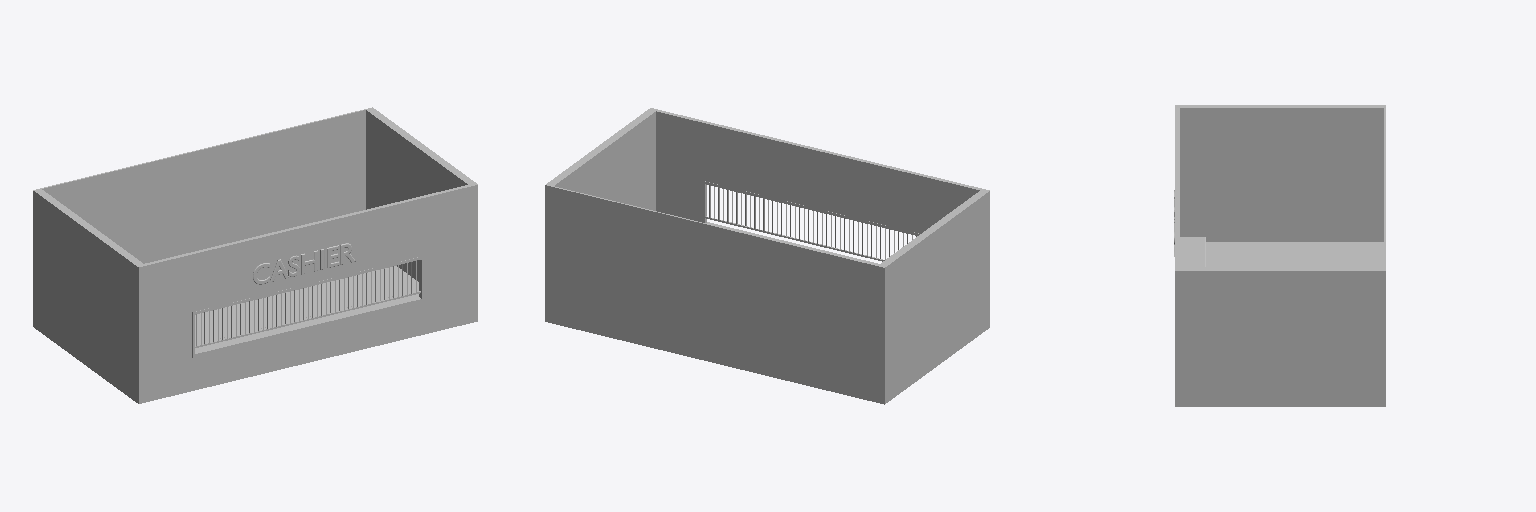
File: Cashier.obj
The picture shows the model from 3 angles: view 1: azimuth 30°, elevation 25°; view 2: azimuth 150°, elevation 25°; view 3: azimuth 270°, elevation 25°; orthographic projection.
Parts seen in each view (by area): view 1: Plane.004; view 2: Plane.004; view 3: Plane.004.
Part boxes in pixels (left/top/right/bottom): Plane.004: left=33, top=107, right=477, bottom=403; Plane.004: left=545, top=108, right=989, bottom=404; Plane.004: left=1174, top=105, right=1385, bottom=406.
Bounding box in the file's own units: 13 × 5 × 7.04.